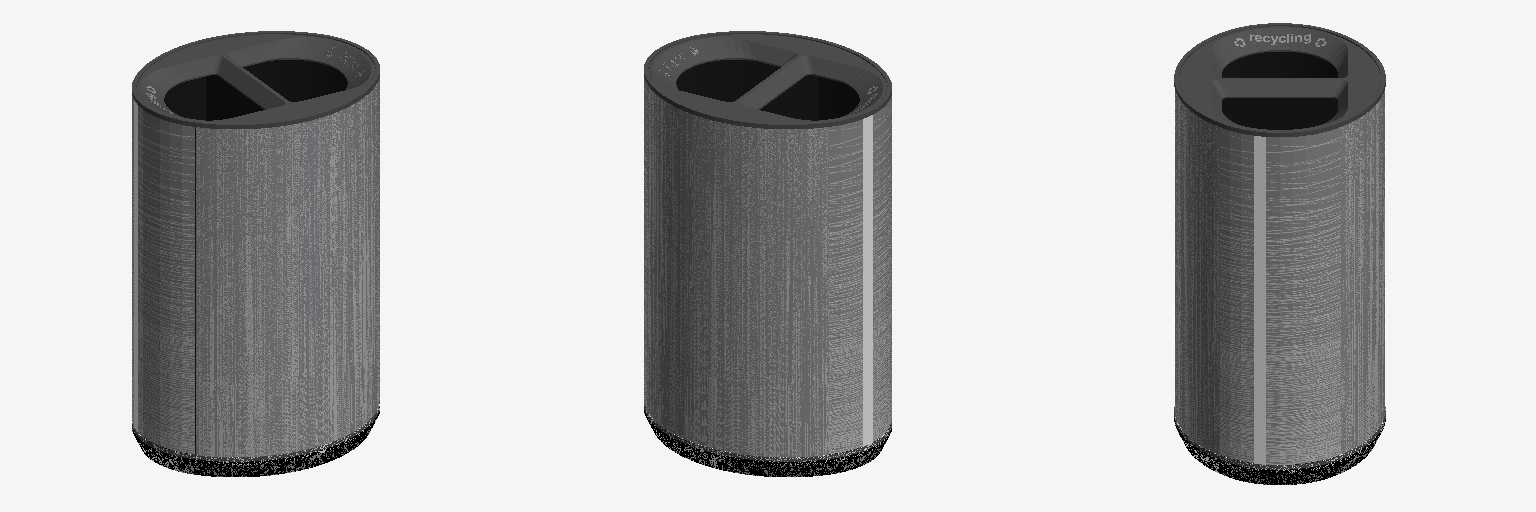
3 views of the same model, side by side, from view 1: azimuth 30°, elevation 25°; view 2: azimuth 150°, elevation 25°; view 3: azimuth 270°, elevation 25° (orthographic).
Parts seen in each view (by area): view 1: mesh5_mesh5-geometry, mesh49_mesh49-geometry, mesh7_mesh7-geometry, mesh8_mesh8-geometry, mesh3_mesh3-geometry, mesh4_mesh4-geometry, mesh1_mesh1-geometry, mesh48_mesh48-geometry, mesh2_mesh2-geometry; view 2: mesh6_mesh6-geometry, mesh49_mesh49-geometry, mesh8_mesh8-geometry, mesh7_mesh7-geometry, mesh3_mesh3-geometry, mesh2_mesh2-geometry, mesh4_mesh4-geometry, mesh48_mesh48-geometry, mesh1_mesh1-geometry; view 3: mesh49_mesh49-geometry, mesh5_mesh5-geometry, mesh6_mesh6-geometry, mesh7_mesh7-geometry, mesh8_mesh8-geometry, mesh3_mesh3-geometry, mesh2_mesh2-geometry, mesh1_mesh1-geometry, mesh4_mesh4-geometry, mesh48_mesh48-geometry.
Boxes of the visible parts, box(x1,y1,x2,y2) form: mesh5_mesh5-geometry: box(196, 84, 376, 456); mesh49_mesh49-geometry: box(132, 78, 379, 454); mesh7_mesh7-geometry: box(143, 31, 368, 128); mesh8_mesh8-geometry: box(132, 39, 379, 120); mesh3_mesh3-geometry: box(164, 75, 263, 120); mesh4_mesh4-geometry: box(243, 60, 347, 101); mesh1_mesh1-geometry: box(143, 442, 308, 476); mesh48_mesh48-geometry: box(132, 401, 379, 461); mesh2_mesh2-geometry: box(132, 411, 379, 468); mesh6_mesh6-geometry: box(647, 84, 828, 456); mesh49_mesh49-geometry: box(644, 78, 891, 454); mesh8_mesh8-geometry: box(655, 31, 880, 128); mesh7_mesh7-geometry: box(644, 39, 891, 120); mesh3_mesh3-geometry: box(676, 60, 817, 120); mesh2_mesh2-geometry: box(715, 442, 880, 476); mesh4_mesh4-geometry: box(818, 77, 859, 120); mesh48_mesh48-geometry: box(644, 405, 891, 461); mesh1_mesh1-geometry: box(644, 411, 891, 468); mesh49_mesh49-geometry: box(1220, 127, 1340, 465); mesh5_mesh5-geometry: box(1175, 91, 1219, 454); mesh6_mesh6-geometry: box(1341, 91, 1384, 453); mesh7_mesh7-geometry: box(1174, 23, 1385, 136); mesh8_mesh8-geometry: box(1174, 23, 1385, 136); mesh3_mesh3-geometry: box(1222, 52, 1337, 129); mesh2_mesh2-geometry: box(1174, 419, 1279, 484); mesh1_mesh1-geometry: box(1280, 419, 1385, 484); mesh4_mesh4-geometry: box(1222, 52, 1279, 77); mesh48_mesh48-geometry: box(1174, 406, 1385, 469).
Size of the model in its own units: 0.5035 by 0.7604 by 0.4101.
Materials: 16 (9 with a texture image).